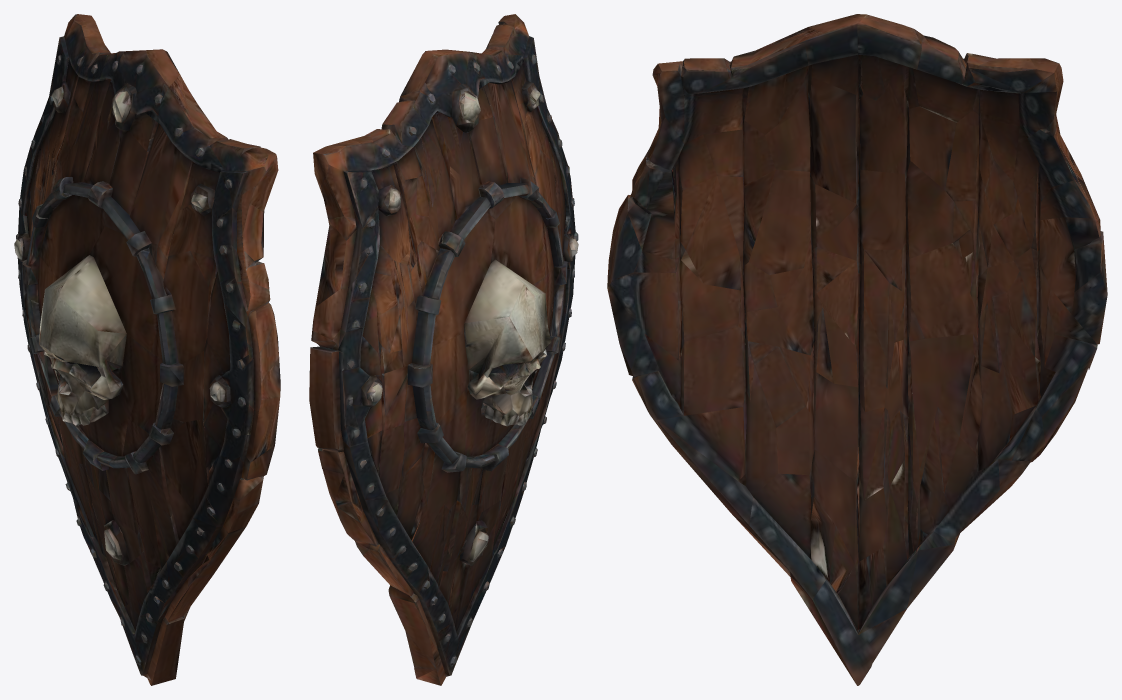
File: shield-skull.glb
3 views of the same model, side by side, from view 1: azimuth 30°, elevation 25°; view 2: azimuth 150°, elevation 25°; view 3: azimuth 270°, elevation 25° (orthographic). The views are drawn at different scales.
Bounding box in the file's own units: 0.1235 × 0.5498 × 0.3777.
Materials: 1 (1 with a texture image).
